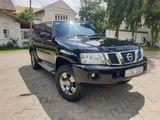car: (28, 19, 148, 103)
